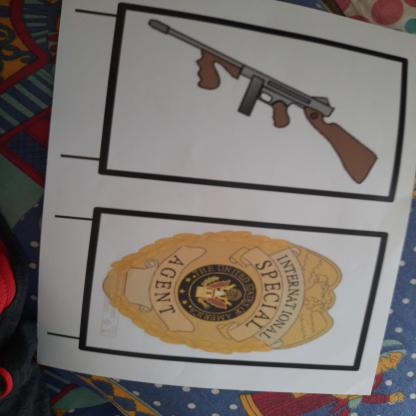Bootlegger: (135, 14, 413, 196)
G-man: (91, 211, 358, 364)
